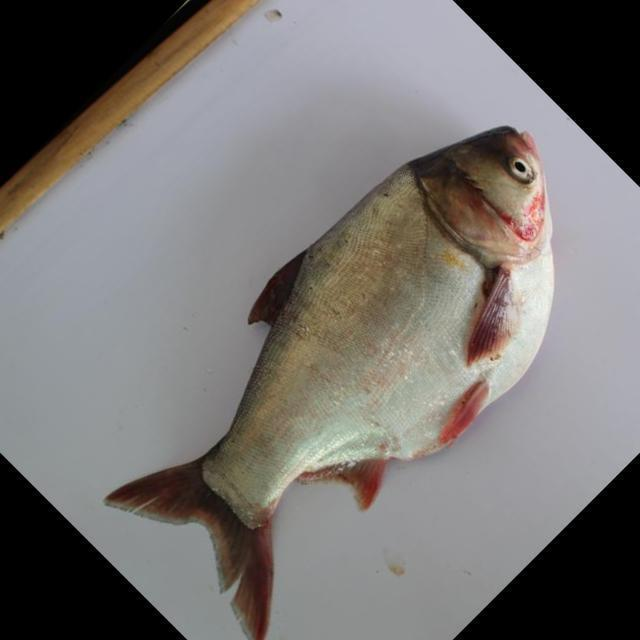Silver Carp: (104, 120, 565, 640)
